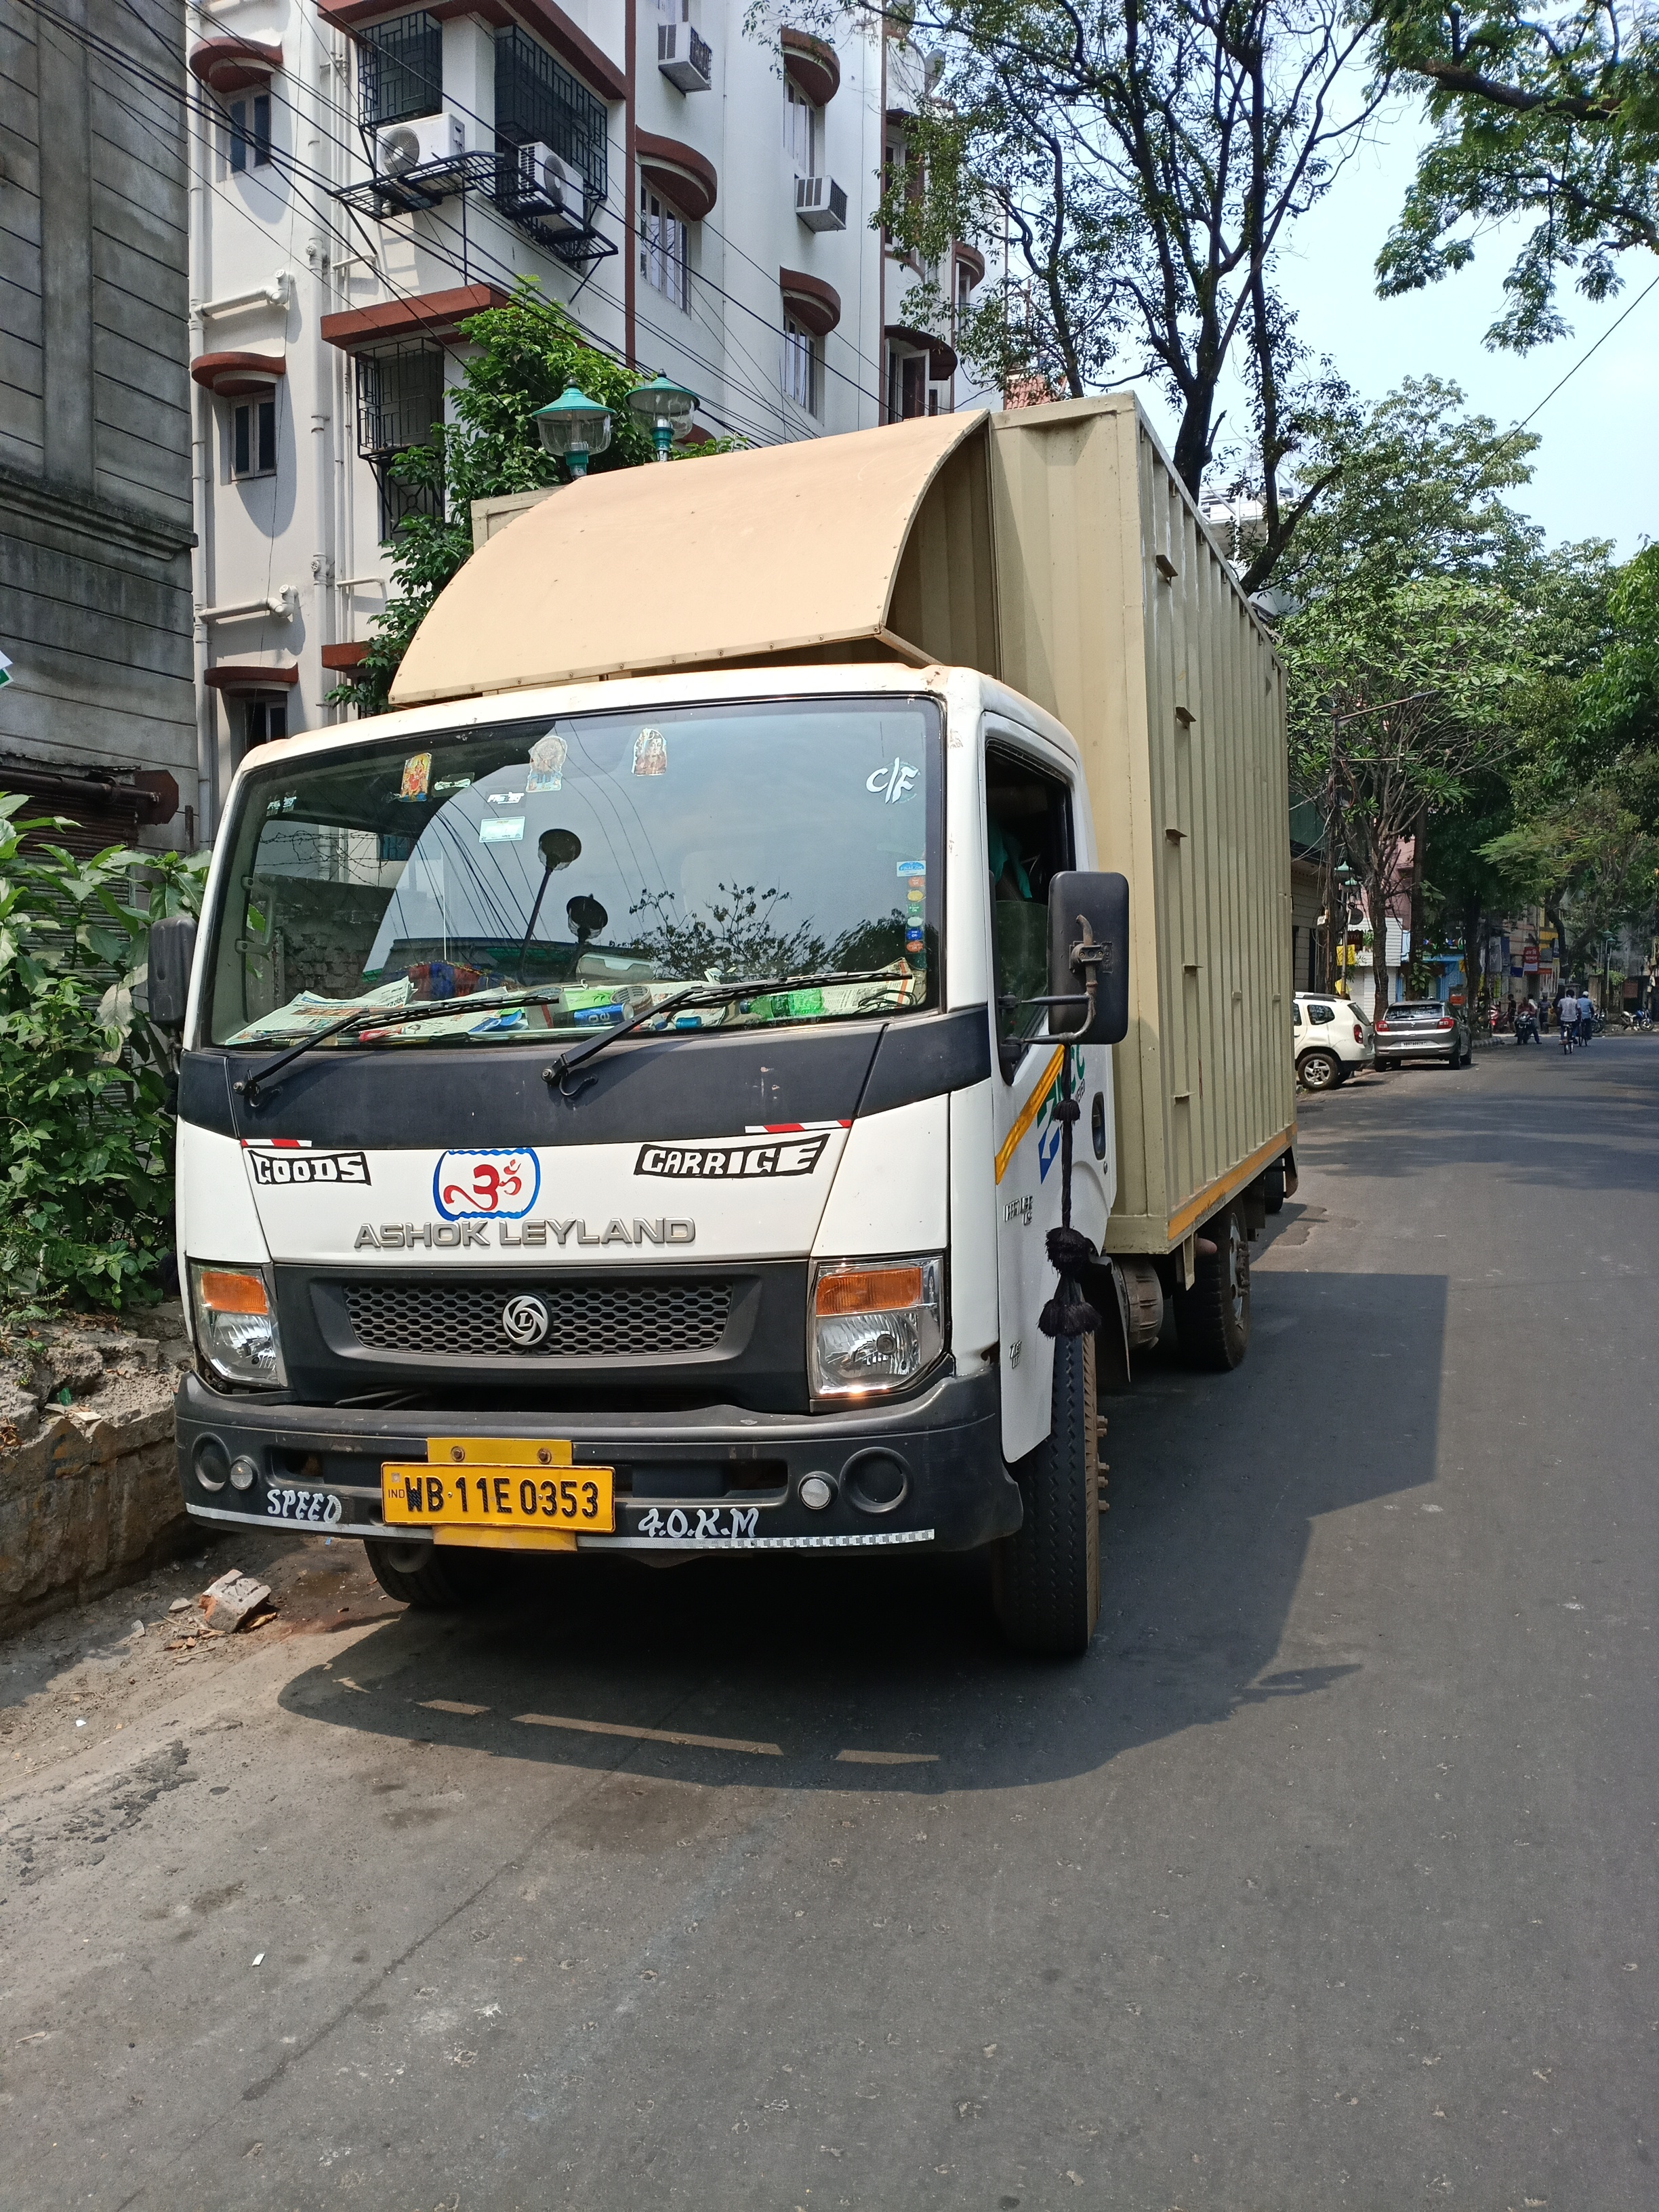truck: (139, 381, 1307, 1667)
